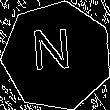N_S: (35, 29, 79, 83)
